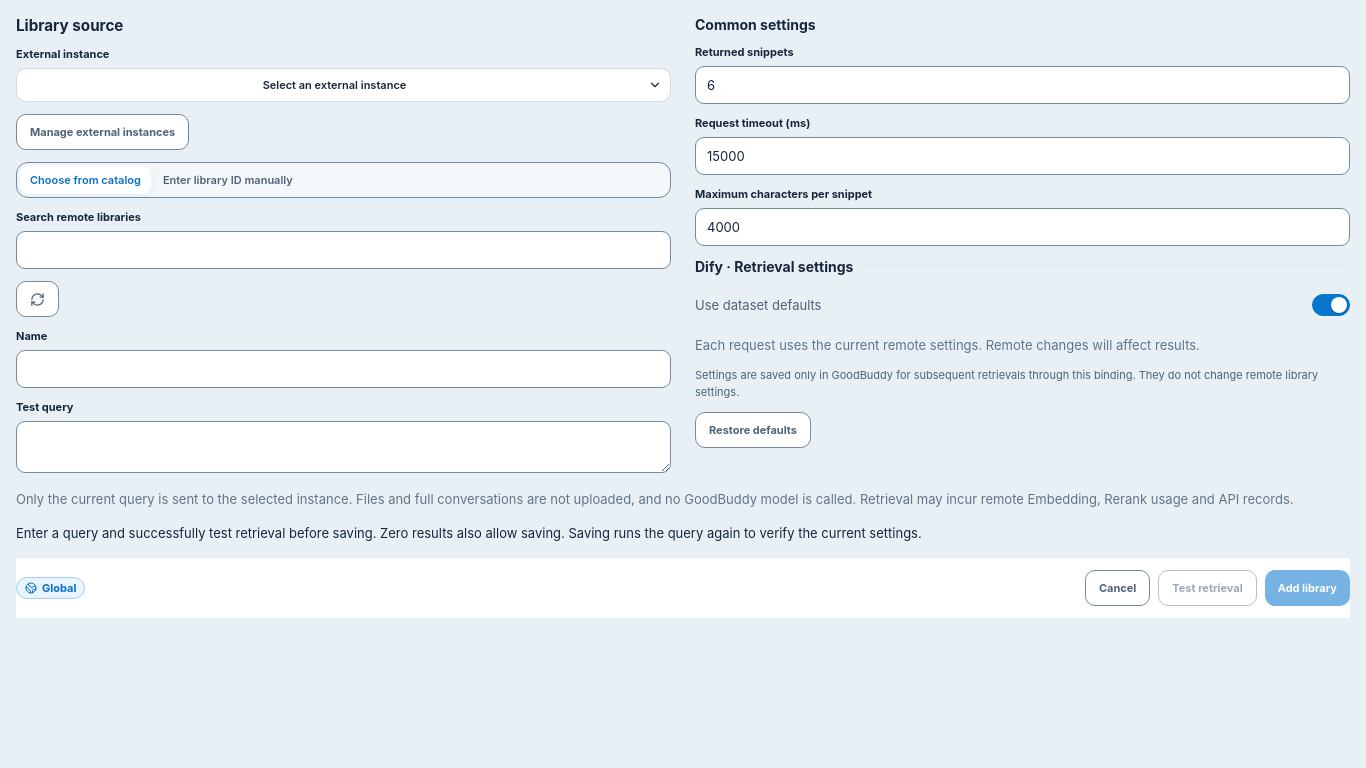
external knowledge workflows › offers clear search and manual entry for distinct empty catalog states
Click the button "Select an external instance": (344, 85) x1=16 y1=68 x2=671 y2=102
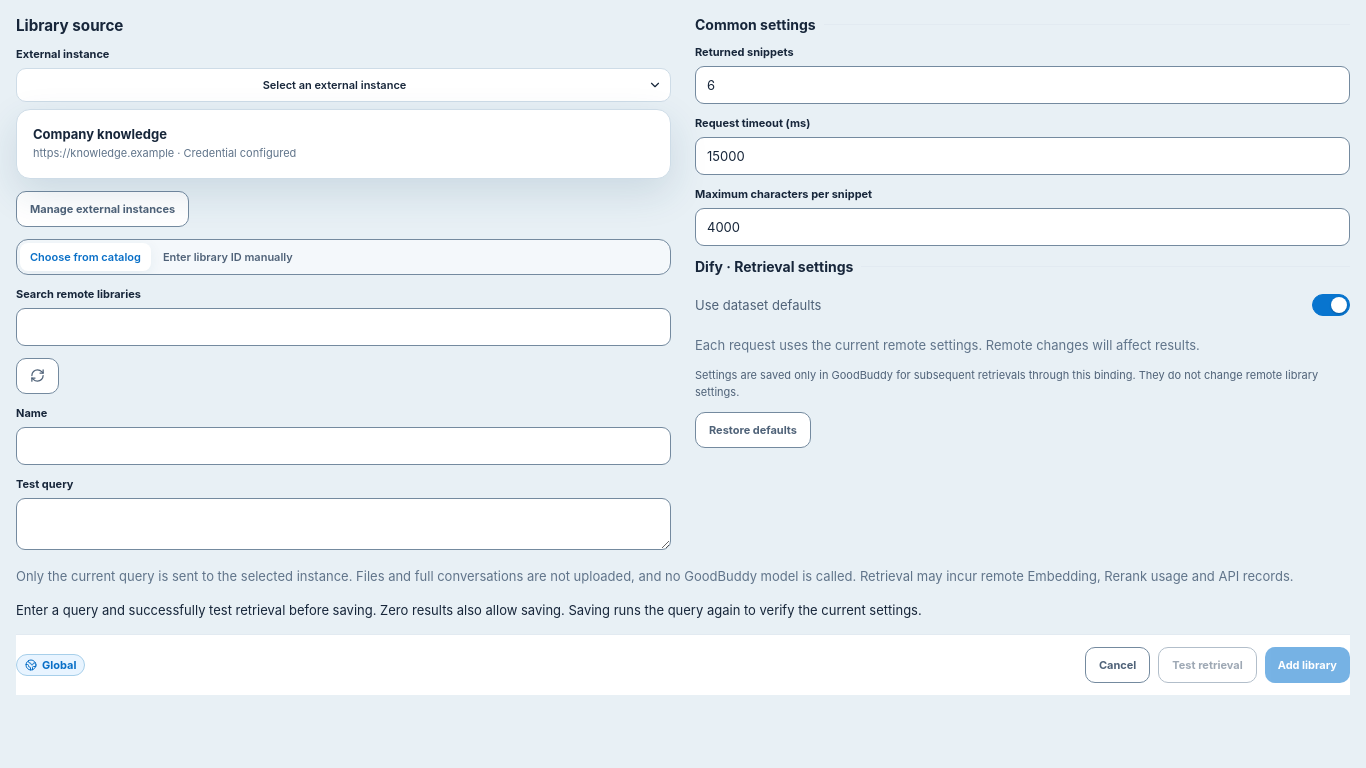
Click the menu item: (100, 134) x1=25 y1=118 x2=662 y2=170
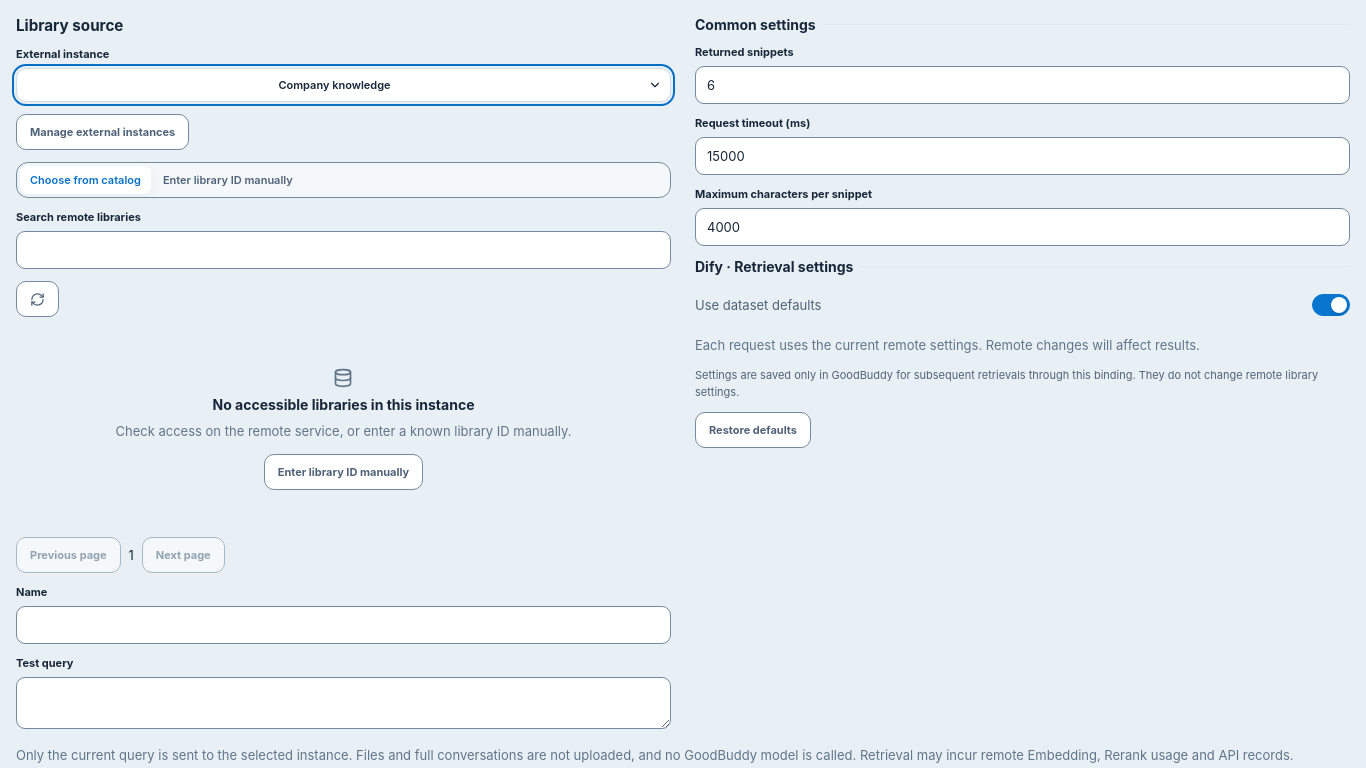
Now the text "No accessible libraries in this instance" is shown, box x1=212 y1=396 x2=474 y2=413
In the search field labelled "Search remote libraries": (344, 250) x1=16 y1=231 x2=671 y2=269, type "missing"
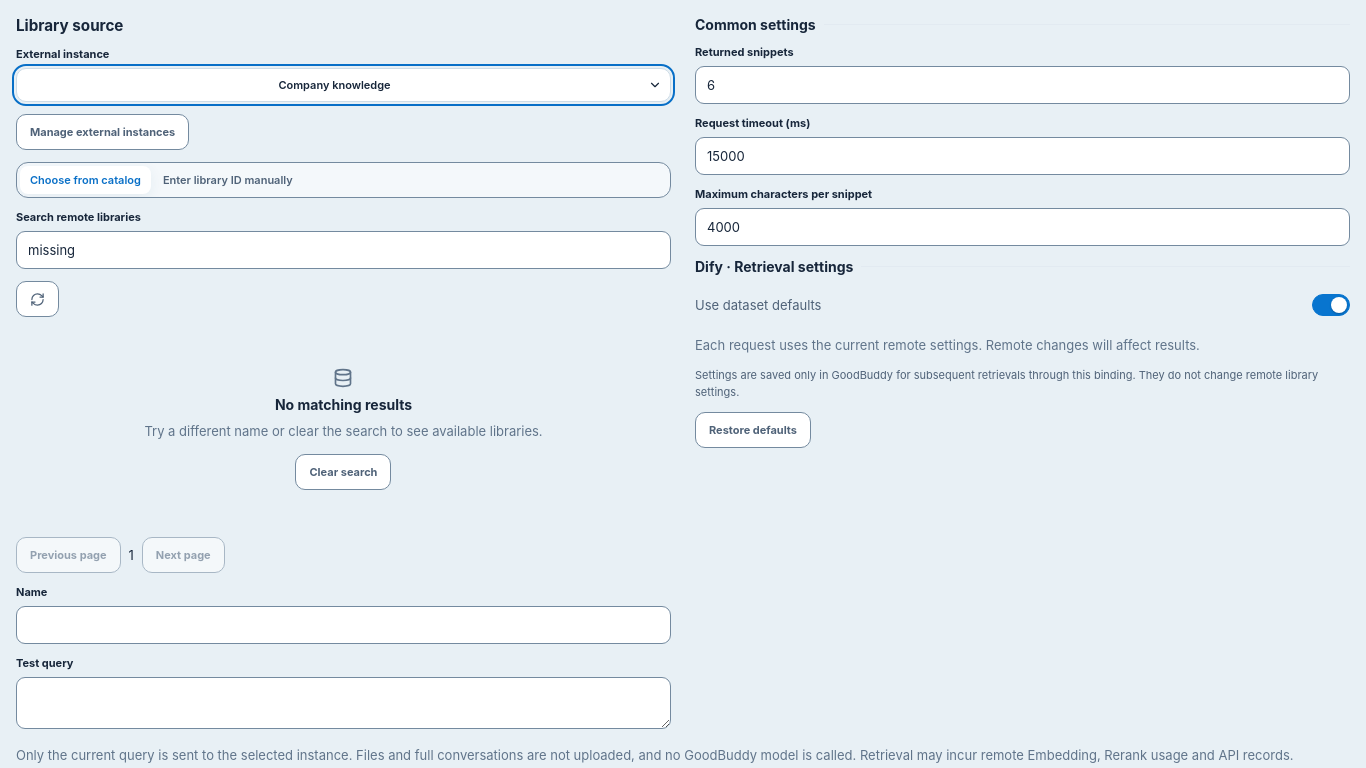
Now the text "No accessible libraries in this instance" is shown, box x1=144 y1=368 x2=543 y2=490
Click the button "Clear search": (344, 472) x1=296 y1=454 x2=392 y2=490
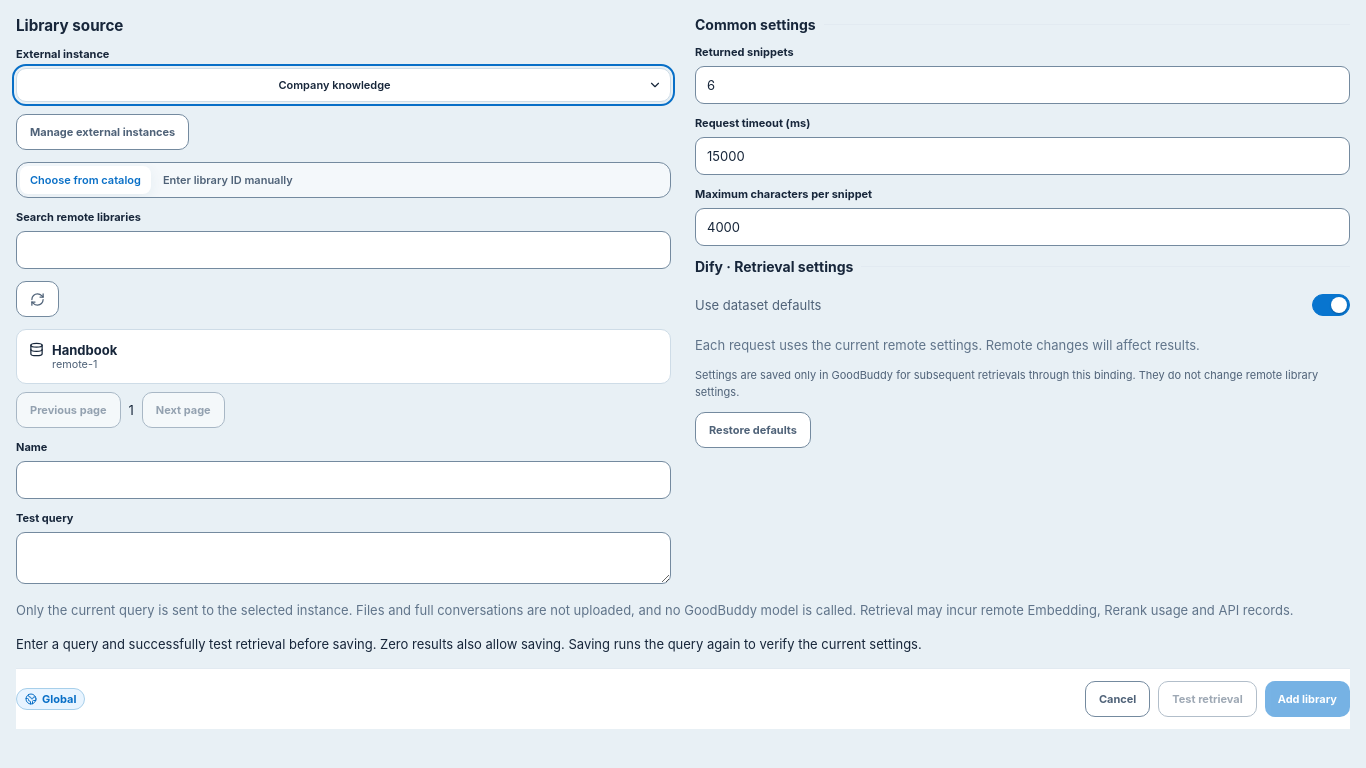
Now the search field labelled "Search remote libraries" is empty, box x1=16 y1=231 x2=671 y2=269
Now the button "Handbook remote-1" is shown, box x1=16 y1=329 x2=671 y2=384
